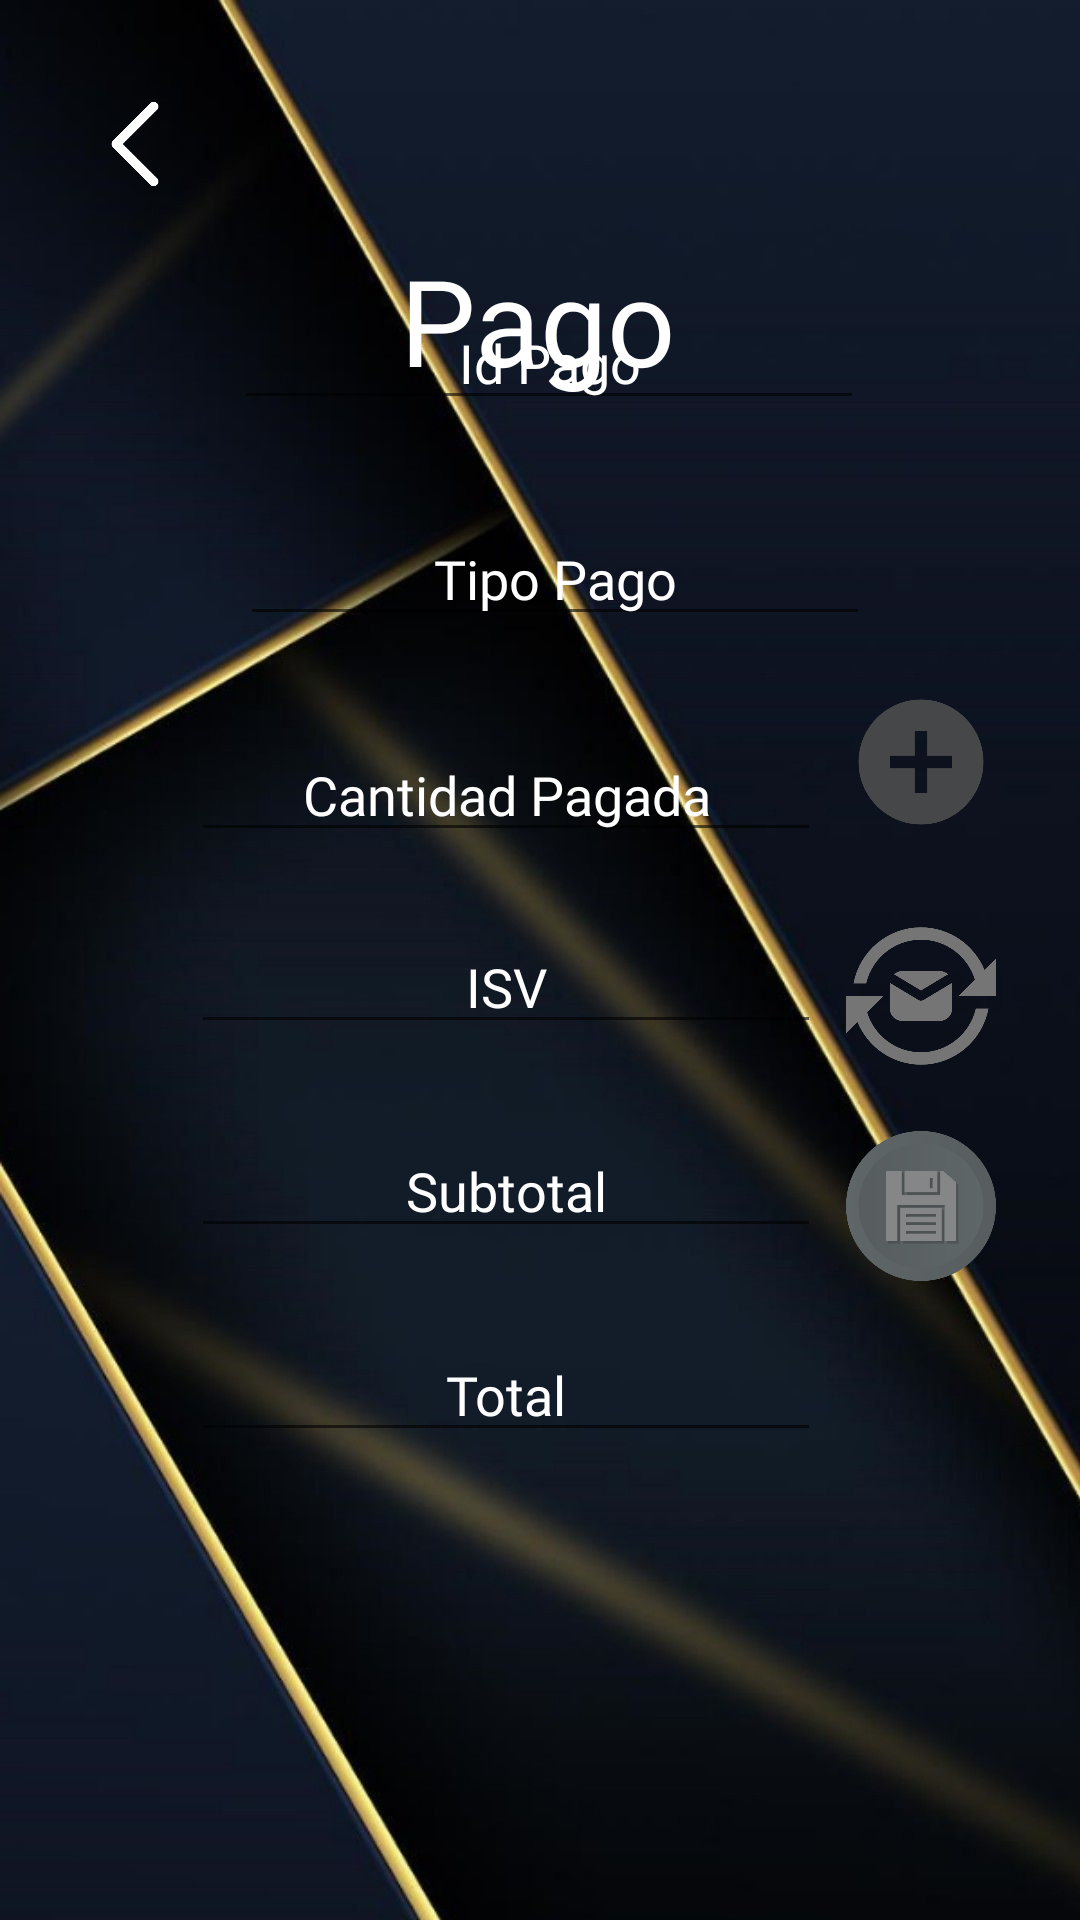

Icon click points for this 1080 × 1920 phone screenshot, format (x=x, y=y):
actualizar: (x=921, y=996)
agregar: (x=921, y=762)
guardar: (x=921, y=1206)
